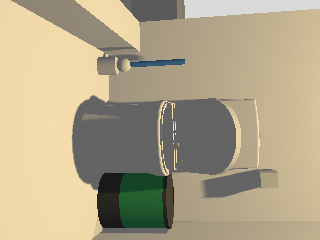lid_1: (171, 99, 240, 174)
